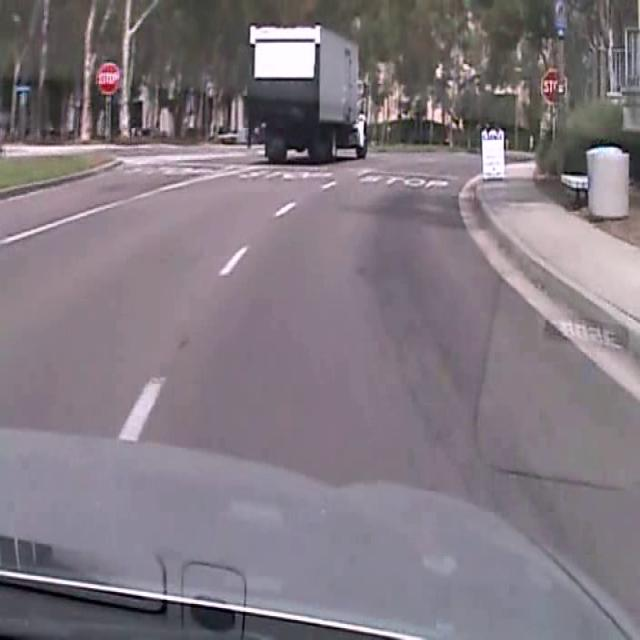stop_sign: (540, 67, 568, 104), (96, 62, 119, 94)
